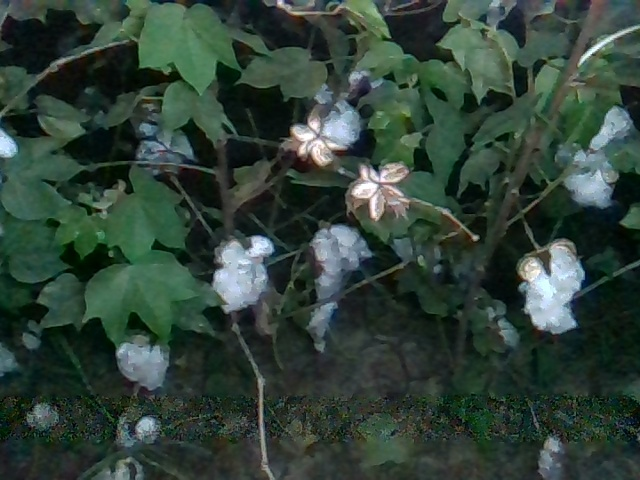cotton: (513, 233, 587, 337), (205, 231, 274, 317), (553, 132, 621, 211), (294, 94, 363, 168), (109, 321, 176, 392), (304, 256, 342, 356), (309, 220, 370, 277), (106, 407, 161, 446), (24, 399, 65, 433)
